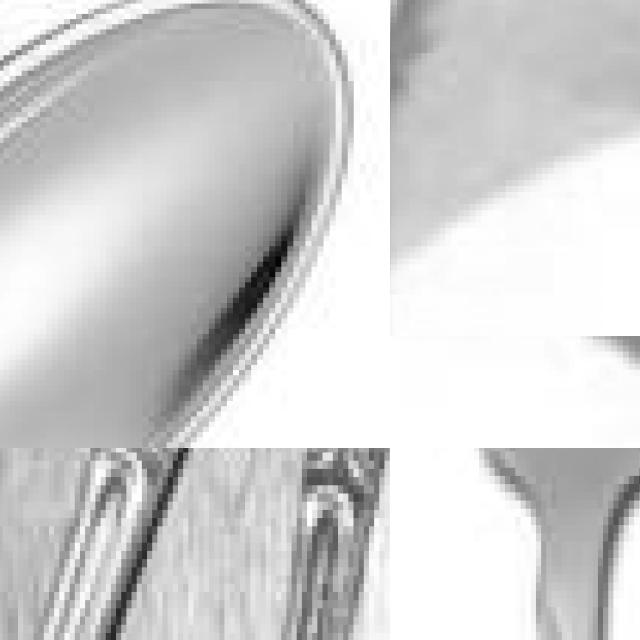spoons: (0, 0, 390, 448), (390, 0, 640, 301)
